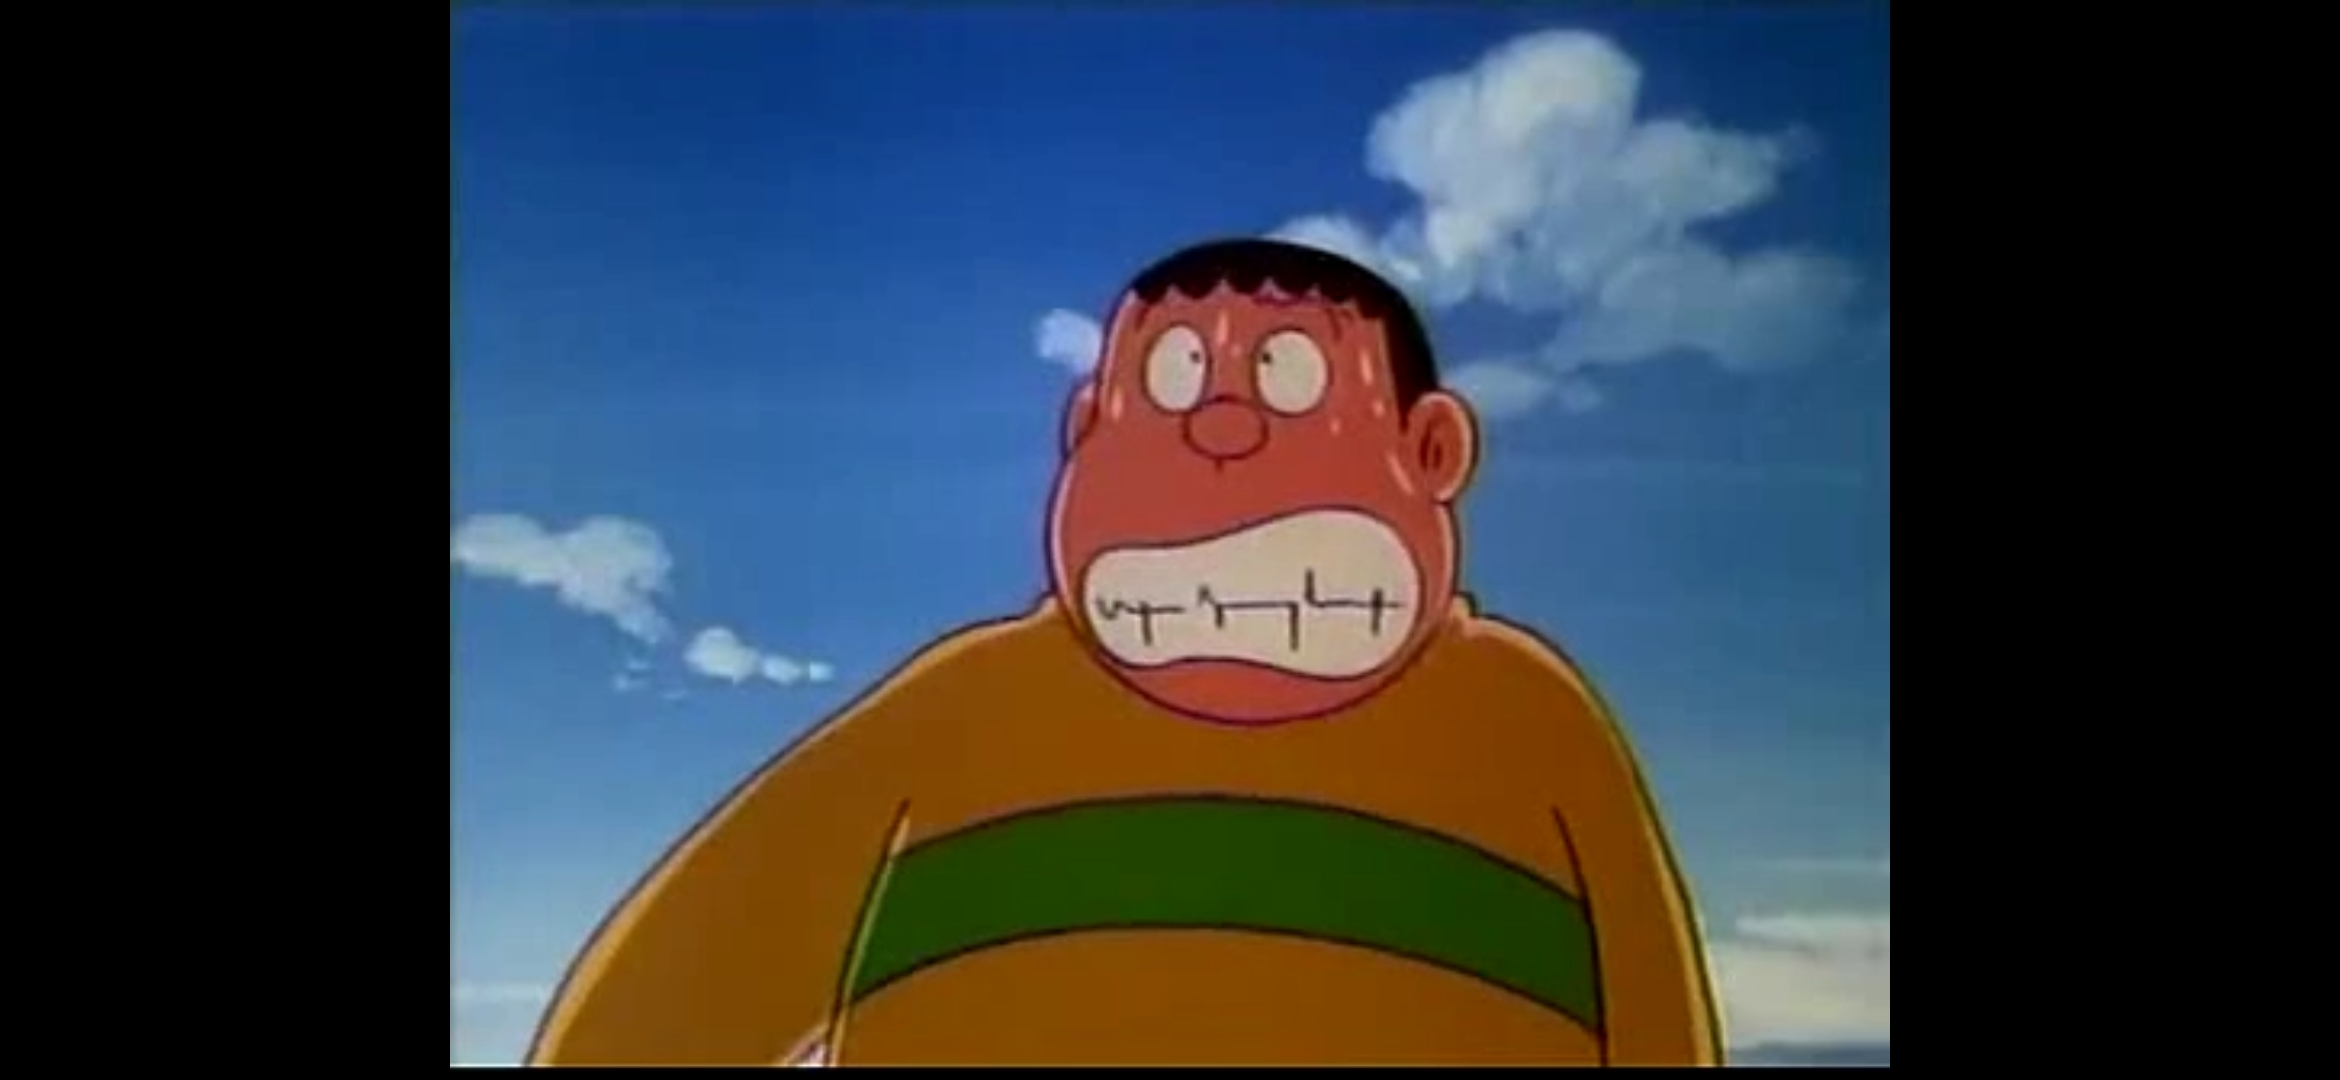Takeshi: (1045, 239, 1477, 722)
